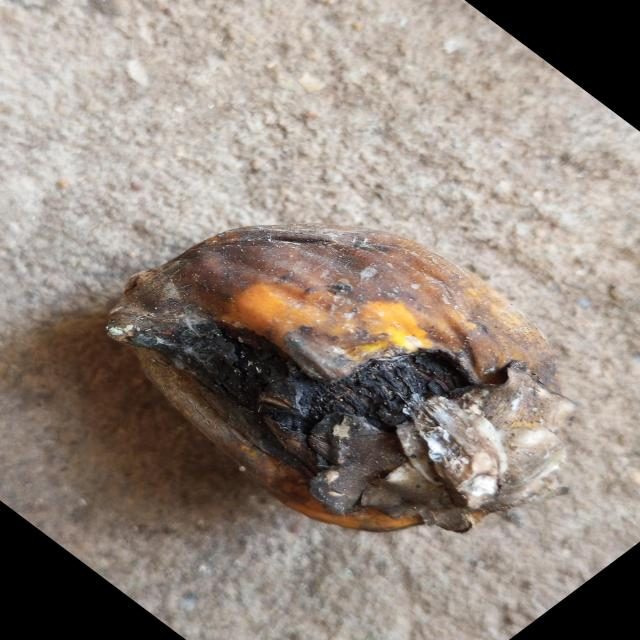damaged: (103, 226, 560, 536)
